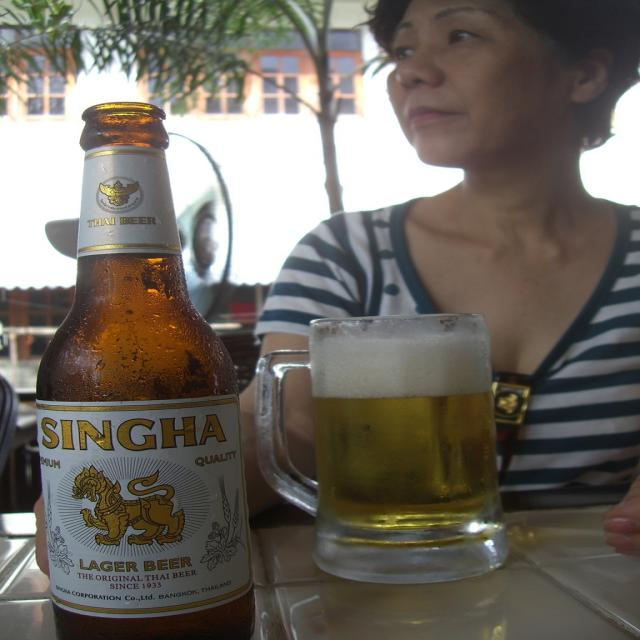singha: (35, 399, 259, 615)
